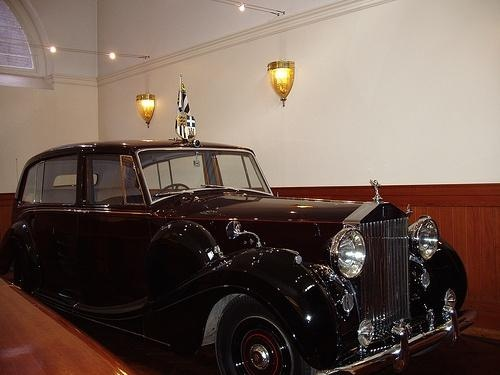car: (1, 138, 479, 375)
